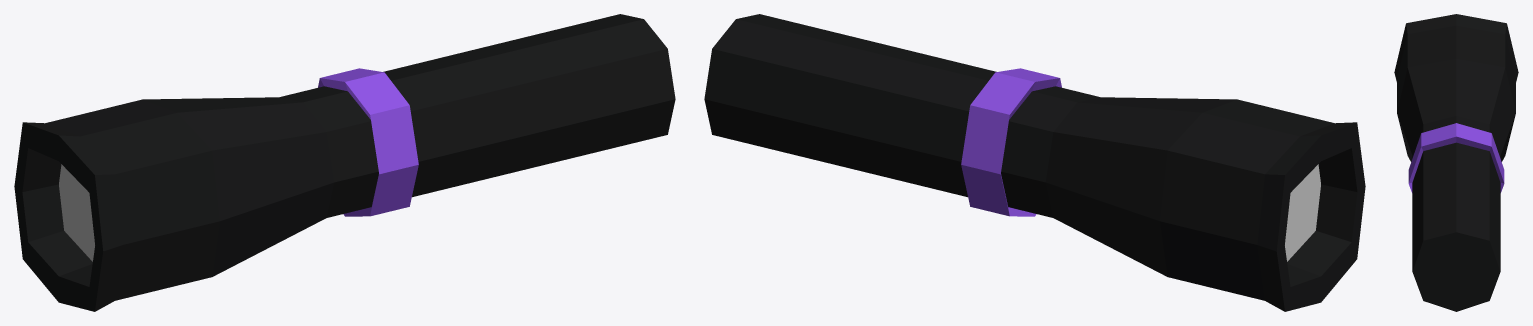
The model's file is flashlight.glb.
The picture shows the model from 3 angles, left to right: view 1: azimuth 30°, elevation 25°; view 2: azimuth 150°, elevation 25°; view 3: azimuth 270°, elevation 25°; orthographic projection. The views are drawn at different scales.
Parts seen in each view (by area): view 1: Cube; view 2: Cube; view 3: Cube.
Boxes of the visible parts, box(x1,y1,x2,y2) form: Cube: box(14, 14, 675, 311); Cube: box(704, 14, 1365, 311); Cube: box(1394, 14, 1518, 311).
Bounding box in the file's own units: 3 × 0.8198 × 0.7897.
